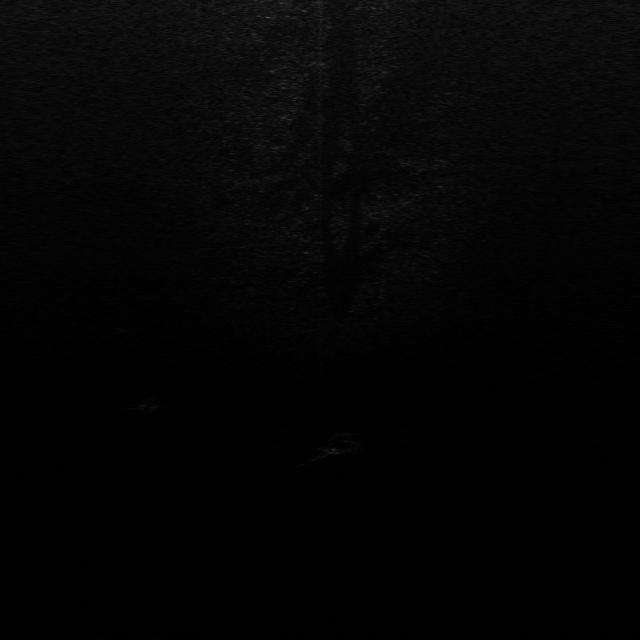ball: (133, 394, 163, 414)
circle cage: (116, 317, 140, 333)
tyre: (317, 433, 363, 455)
